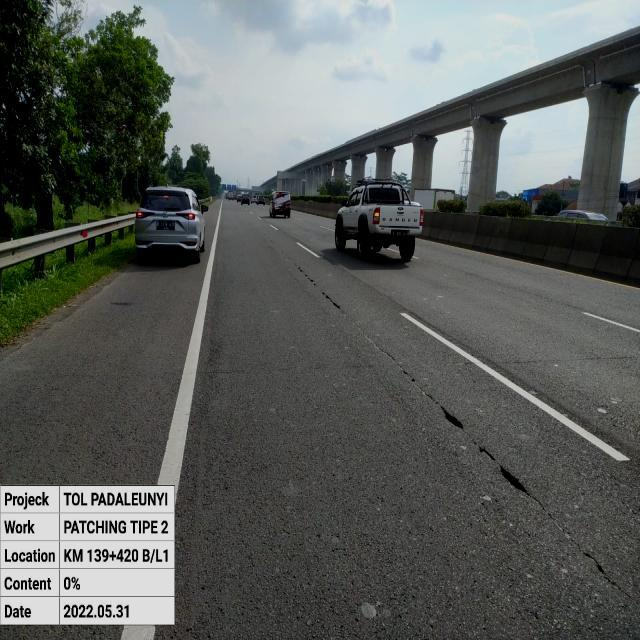Buraco: (497, 462, 532, 496), (438, 405, 467, 431)
